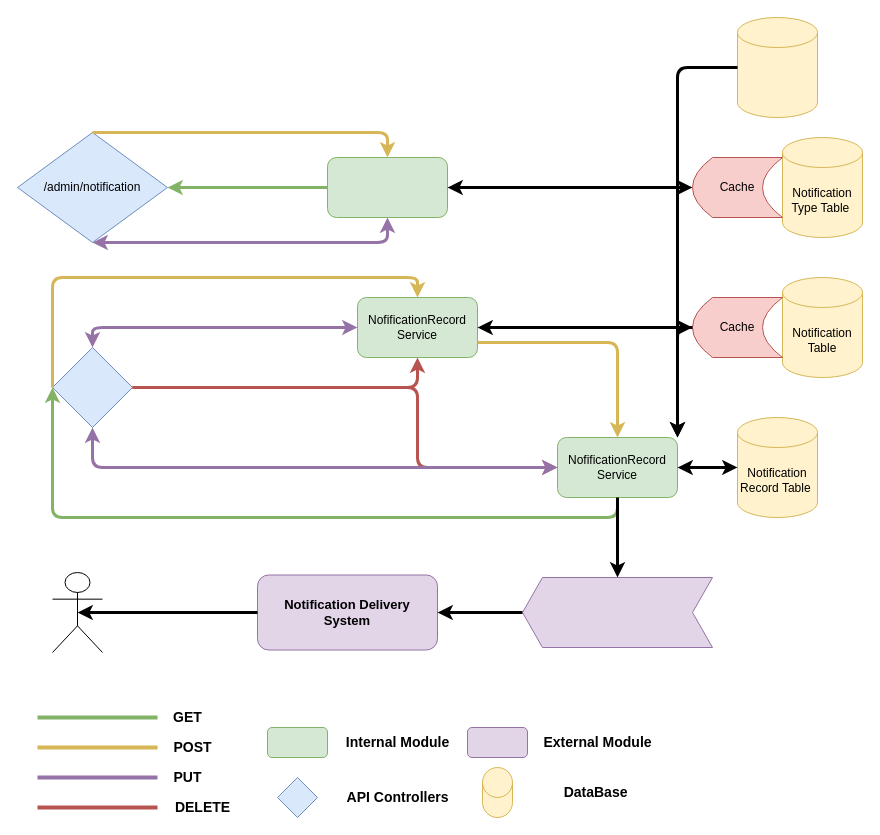
Some shapes in this 880 by 835 pixel diagram are drawn without their labels. The shapes that lost their labels are listed below. From the top down, each one's centre as x and y in pixels, then its label:
(x=777, y=67): Entity Models
(x=387, y=187): NotificationType Service
(x=92, y=387): /notification
(x=77, y=612): User
(x=617, y=612): Notification Queue
